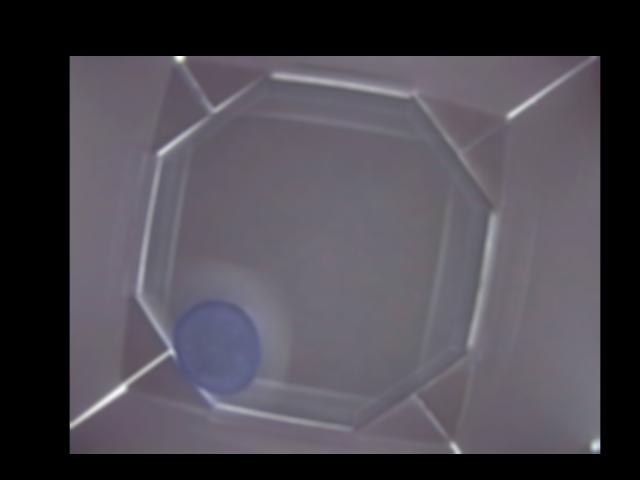Mooli: (171, 299, 261, 397)
